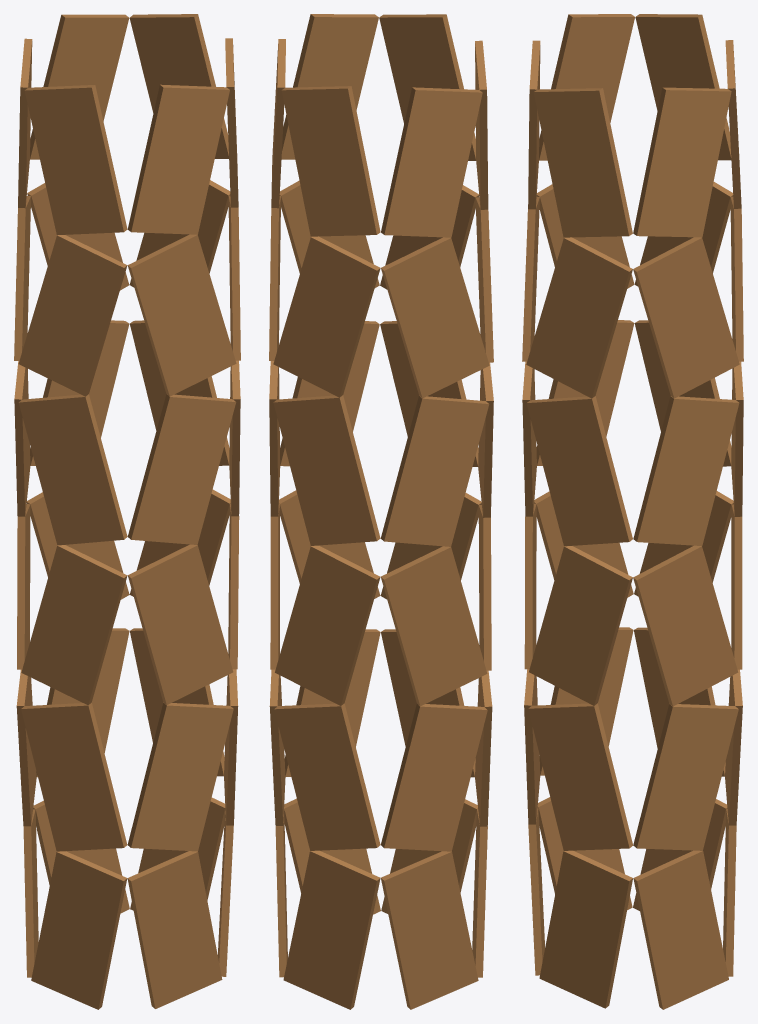
3 renders of one model, left to right at view 1: azimuth 30°, elevation 25°; view 2: azimuth 150°, elevation 25°; view 3: azimuth 270°, elevation 25°, orthographic.
Parts seen in each view (by area): view 1: Tile_23, Tile_21, Tile_29, Tile_22, Tile_19, Tile_28, Tile_27, Tile_25, Tile_20, Tile_26, Tile_18, Tile_24 (+24 smaller); view 2: Tile_17, Tile_15, Tile_11, Tile_13, Tile_9, Tile_16, Tile_7, Tile_10, Tile_14, Tile_8, Tile_12, Tile_6 (+24 smaller); view 3: Tile_5, Tile_35, Tile_33, Tile_3, Tile_31, Tile_1, Tile_34, Tile_4, Tile_2, Tile_32, Tile_0, Tile_30 (+24 smaller).
Part boxes in pixels (x1=…): Tile_23: x1=24, y1=85, x2=127, y2=235; Tile_21: x1=18, y1=394, x2=127, y2=545; Tile_29: x1=127, y1=84, x2=229, y2=234; Tile_22: x1=18, y1=235, x2=127, y2=396; Tile_19: x1=21, y1=702, x2=127, y2=851; Tile_28: x1=127, y1=234, x2=236, y2=396; Tile_27: x1=127, y1=394, x2=236, y2=544; Tile_25: x1=127, y1=702, x2=233, y2=851; Tile_20: x1=21, y1=545, x2=127, y2=705; Tile_26: x1=128, y1=544, x2=233, y2=704; Tile_18: x1=31, y1=851, x2=127, y2=1009; Tile_24: x1=127, y1=851, x2=222, y2=1008; Tile_17: x1=381, y1=87, x2=482, y2=237; Tile_15: x1=380, y1=396, x2=489, y2=546; Tile_11: x1=281, y1=86, x2=380, y2=236; Tile_13: x1=381, y1=704, x2=487, y2=851; Tile_9: x1=273, y1=395, x2=380, y2=545; Tile_16: x1=381, y1=237, x2=489, y2=398; Tile_7: x1=274, y1=703, x2=380, y2=850; Tile_10: x1=273, y1=236, x2=380, y2=397; Tile_14: x1=381, y1=546, x2=487, y2=706; Tile_8: x1=275, y1=545, x2=380, y2=705; Tile_12: x1=381, y1=851, x2=478, y2=1009; Tile_6: x1=283, y1=850, x2=380, y2=1009; Tile_5: x1=633, y1=87, x2=731, y2=237; Tile_35: x1=533, y1=88, x2=632, y2=237; Tile_33: x1=526, y1=396, x2=632, y2=546; Tile_3: x1=633, y1=396, x2=739, y2=545; Tile_31: x1=528, y1=703, x2=633, y2=850; Tile_1: x1=633, y1=704, x2=738, y2=850; Tile_34: x1=526, y1=237, x2=632, y2=398; Tile_4: x1=633, y1=237, x2=739, y2=398; Tile_2: x1=633, y1=545, x2=738, y2=706; Tile_32: x1=529, y1=546, x2=632, y2=705; Tile_0: x1=633, y1=850, x2=728, y2=1009; Tile_30: x1=539, y1=850, x2=632, y2=1008.
Bounding box in the file's own units: 3.26 × 13.13 × 2.87.
